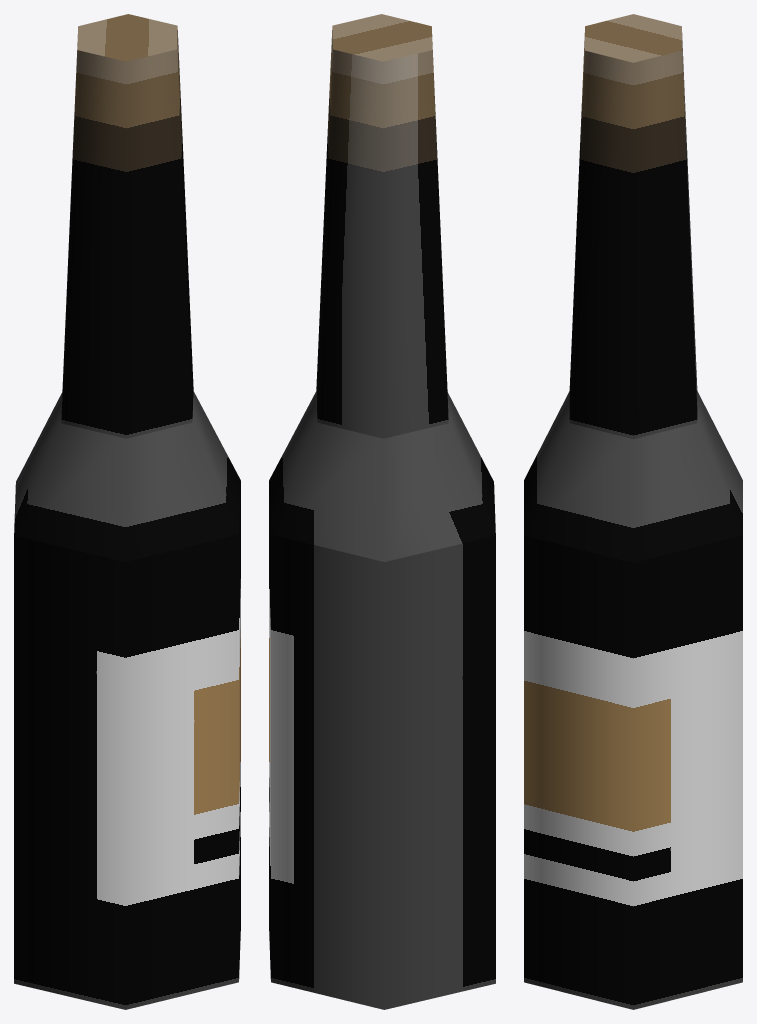
The model's file is M_Home_Garden_beer1.fbx.
3 views of the same model, side by side, from view 1: azimuth 30°, elevation 25°; view 2: azimuth 150°, elevation 25°; view 3: azimuth 270°, elevation 25° (orthographic).
Parts seen in each view (by area): view 1: M_Home_Garden_beer1; view 2: M_Home_Garden_beer1; view 3: M_Home_Garden_beer1.
Boxes of the visible parts, left/top/right/bottom form: M_Home_Garden_beer1: left=14, top=14, right=240, bottom=1009; M_Home_Garden_beer1: left=269, top=14, right=495, bottom=1009; M_Home_Garden_beer1: left=524, top=14, right=742, bottom=1009.
Bounding box in the file's own units: 11.87 × 45.91 × 9.94.
